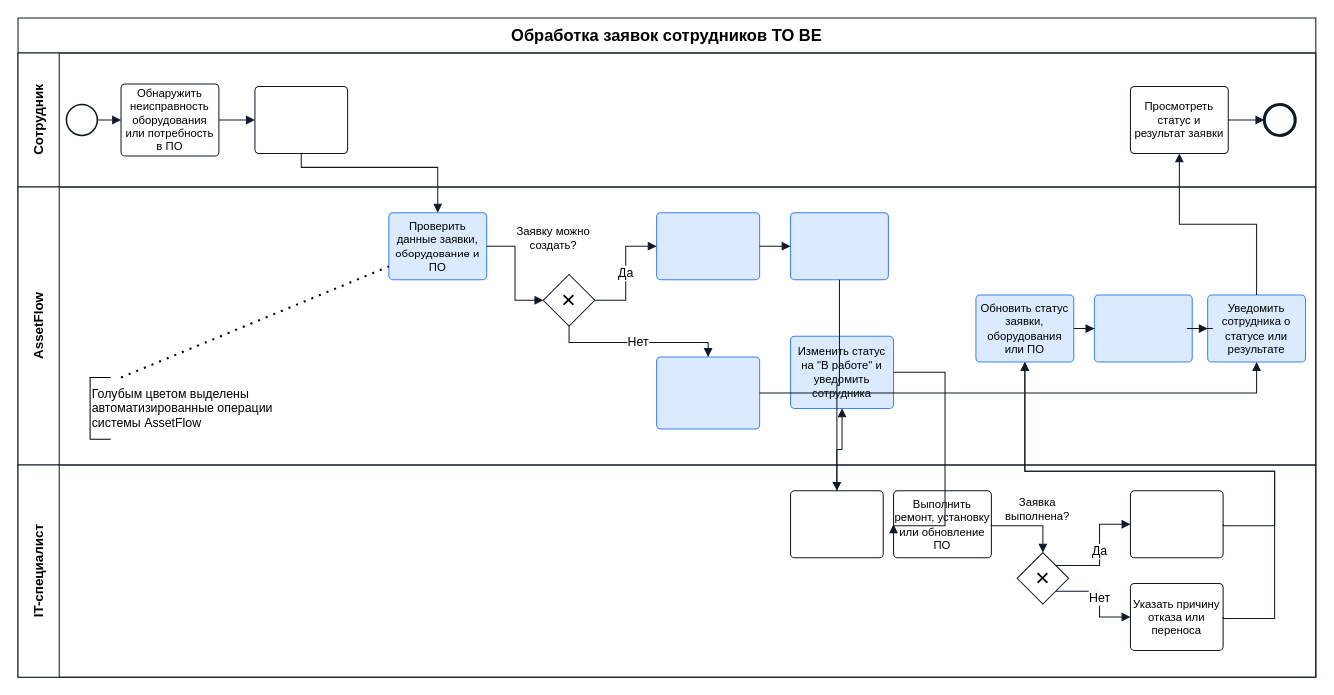
Some shapes in this 1334 by 695 pixel diagram are drawn without their labels. The centre of each missing label's shape, as x and y in pixels:
Зарегистрировать заявку и присвоить статус "Новая": (x=708, y=246)
Зафиксировать историю и журнал аудита: (x=1142, y=328)
Назначить заявку на себя: (x=836, y=524)
Показать причину невозможности создания заявки: (x=708, y=392)
Создать заявку в AssetFlow: (x=301, y=119)
Уведомить IT-специалиста о новой заявке: (x=838, y=246)
Указать результат выполнения: (x=1176, y=524)
